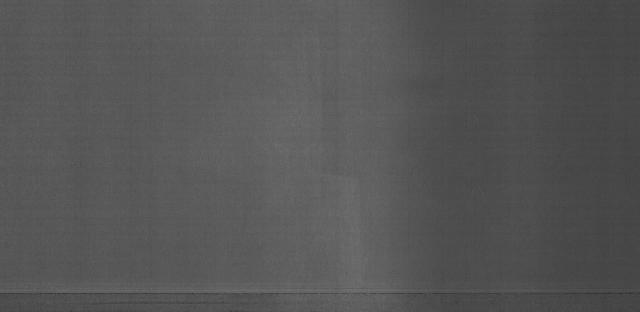welding_line: (2, 280, 640, 303)
